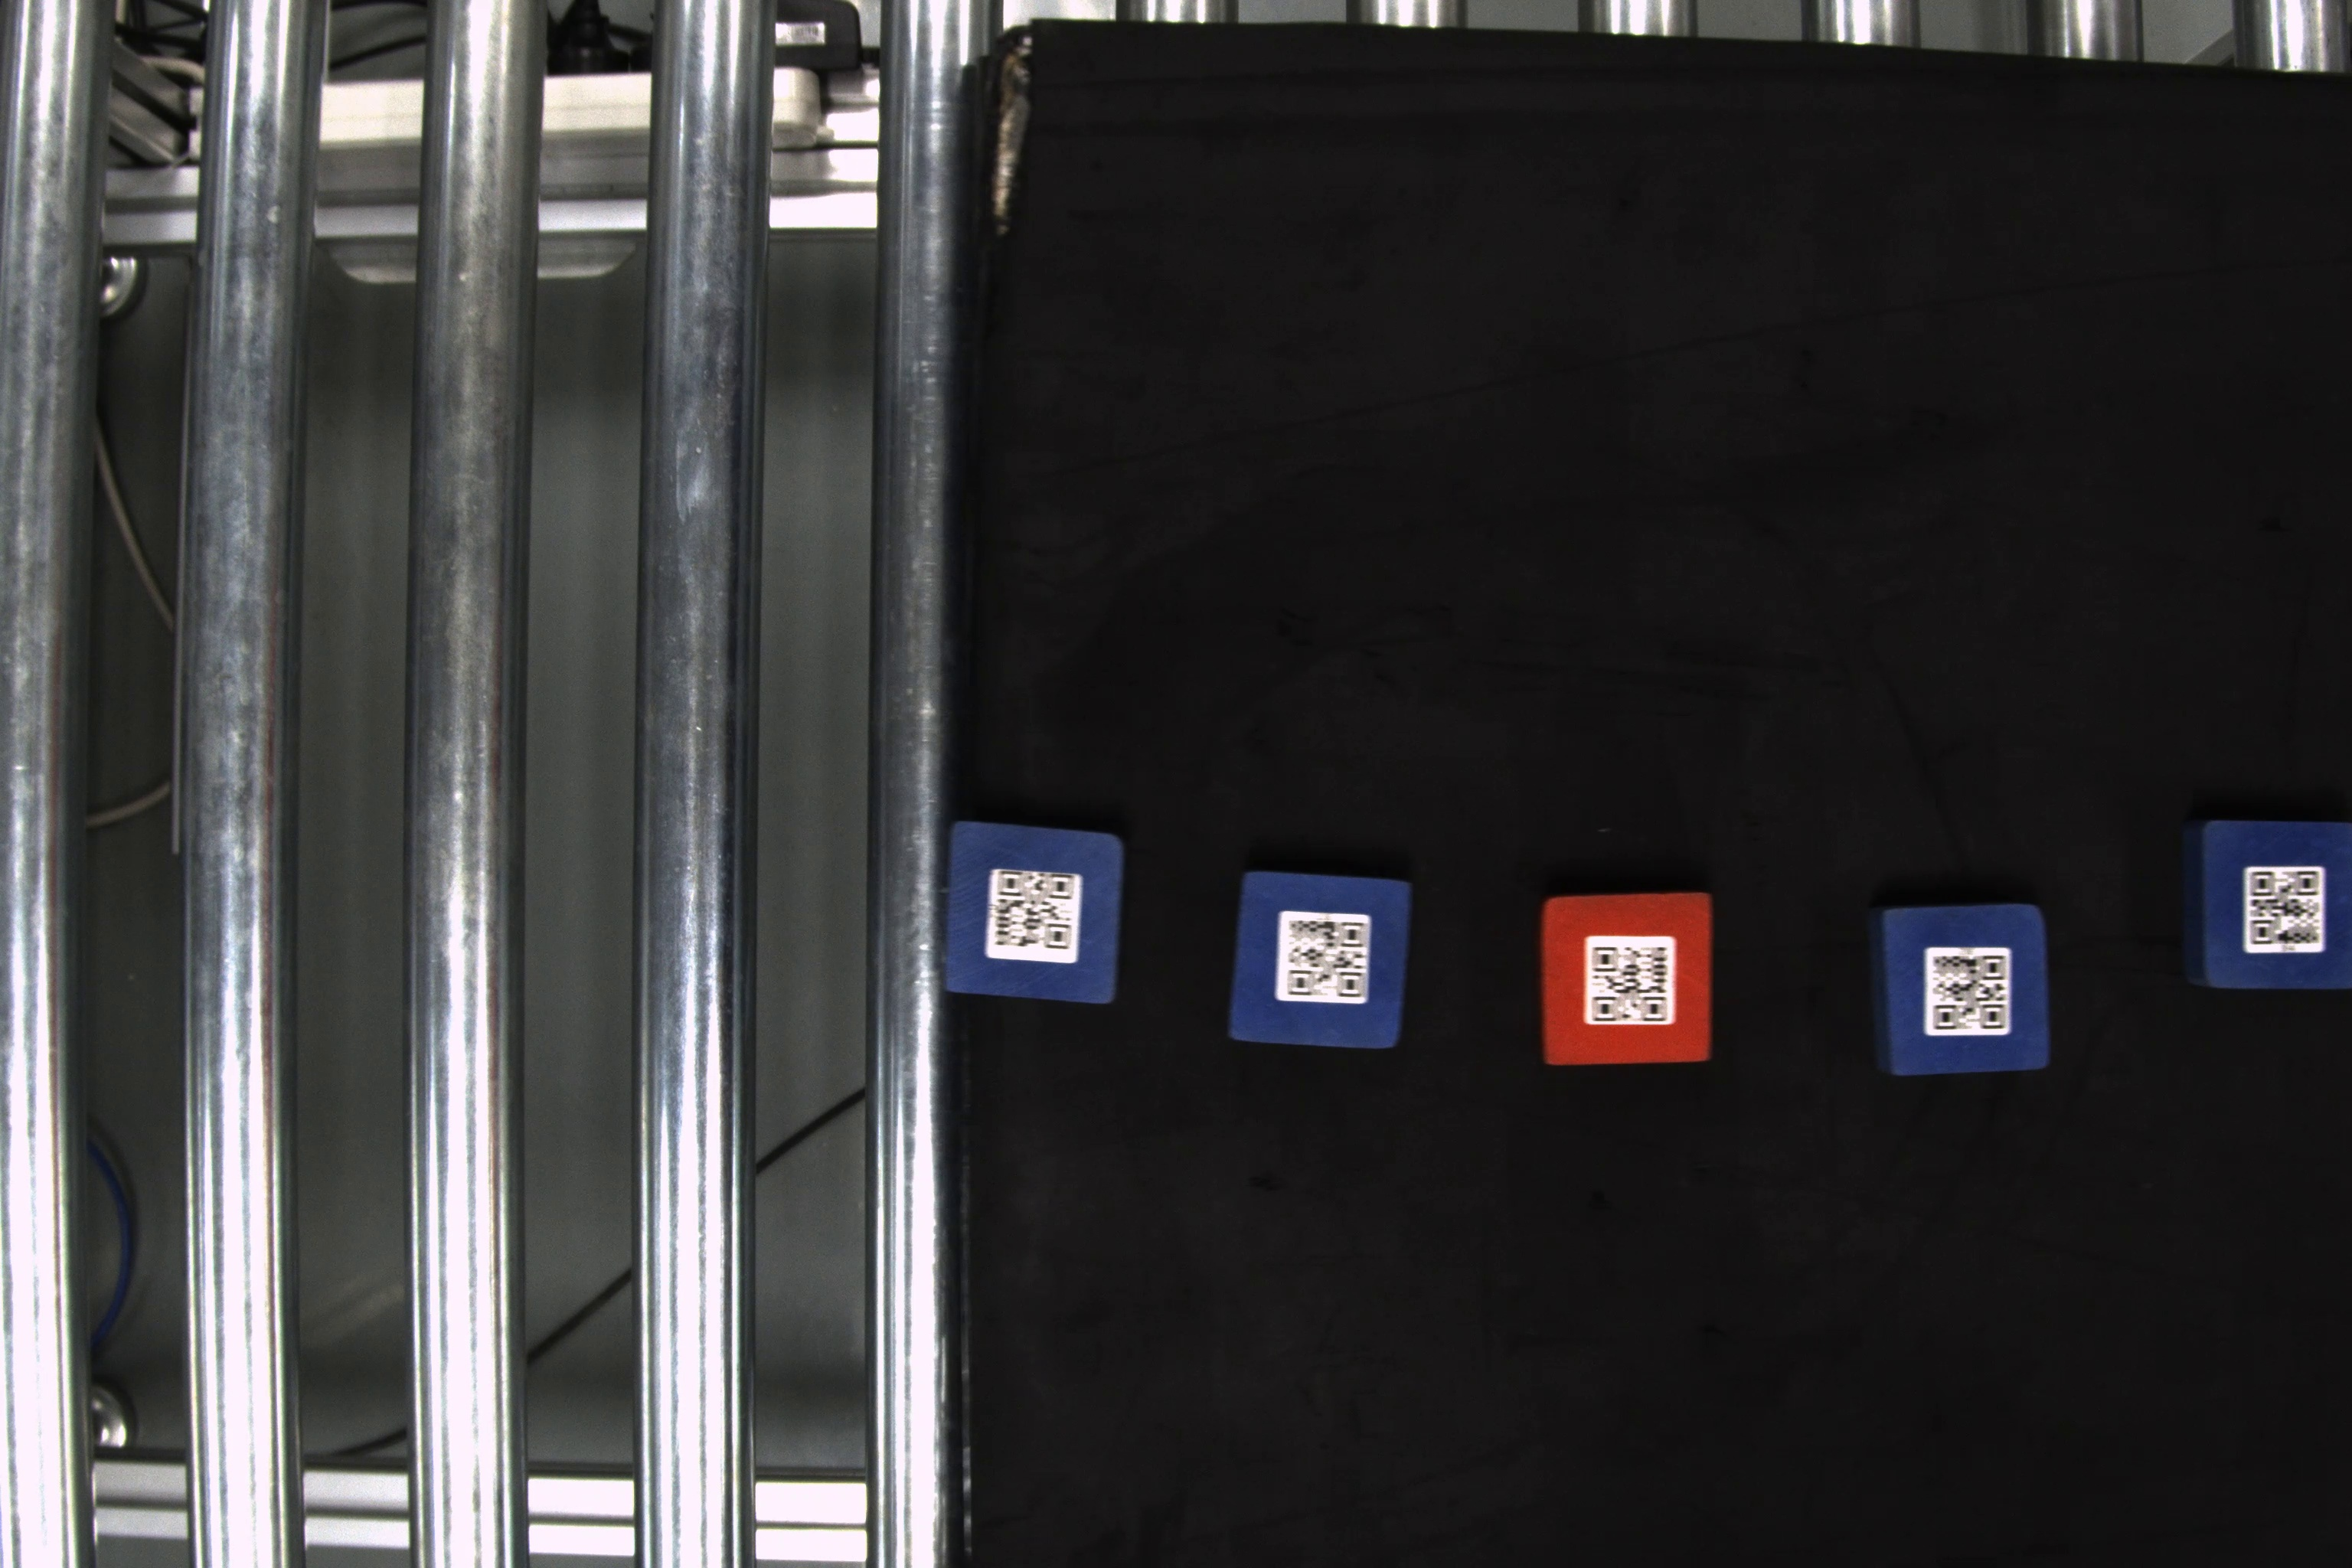wood: (1228, 864, 1417, 1055), (1526, 889, 1724, 1071), (1869, 899, 2056, 1087), (945, 817, 1127, 1004), (2175, 819, 2347, 1003)
